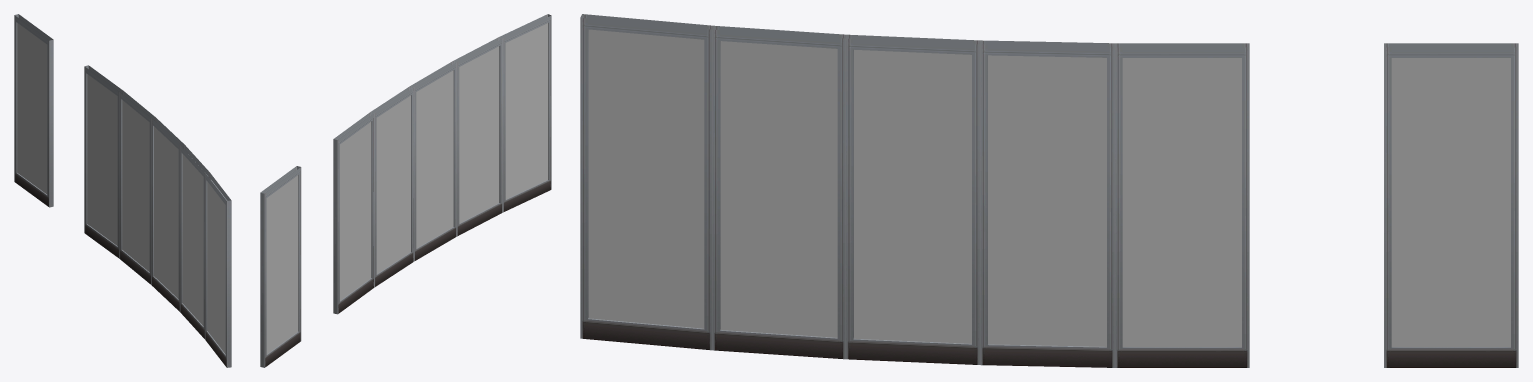
File: env_cscBackWall.FBX
3 views of the same model, side by side, from view 1: azimuth 30°, elevation 25°; view 2: azimuth 150°, elevation 25°; view 3: azimuth 270°, elevation 25° (orthographic). The views are drawn at different scales.
Parts seen in each view (by area): view 1: env_cscBackWall; view 2: env_cscBackWall; view 3: env_cscBackWall.
Part boxes in pixels (box(x1,y1,x2,y2)): env_cscBackWall: box(14, 14, 231, 367); env_cscBackWall: box(260, 14, 551, 367); env_cscBackWall: box(580, 14, 1518, 367).
Size of the model in its own units: 0.5419 by 2.44 by 6.46.
